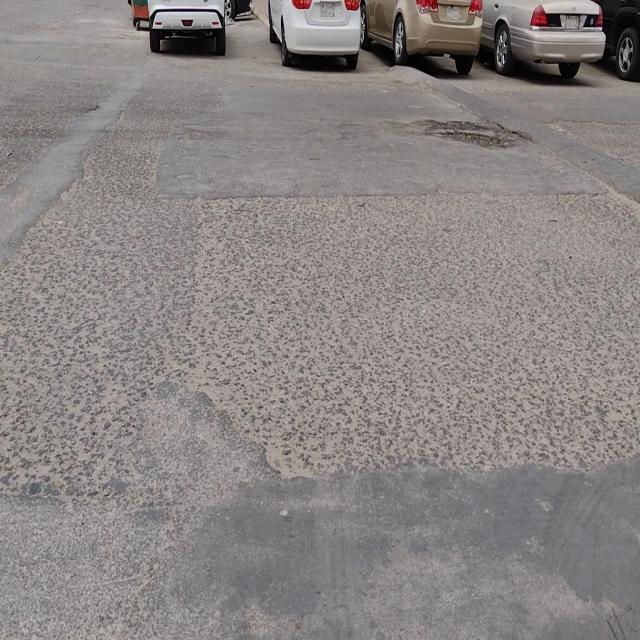Potholes: (422, 117, 517, 151)
